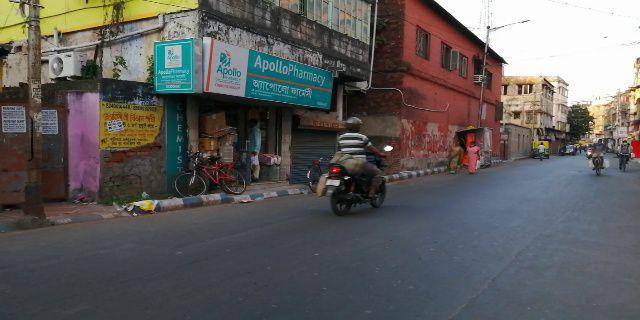Cycle: (176, 150, 247, 198), (585, 133, 608, 183), (617, 138, 632, 177)
Motorbike: (322, 114, 397, 224)
